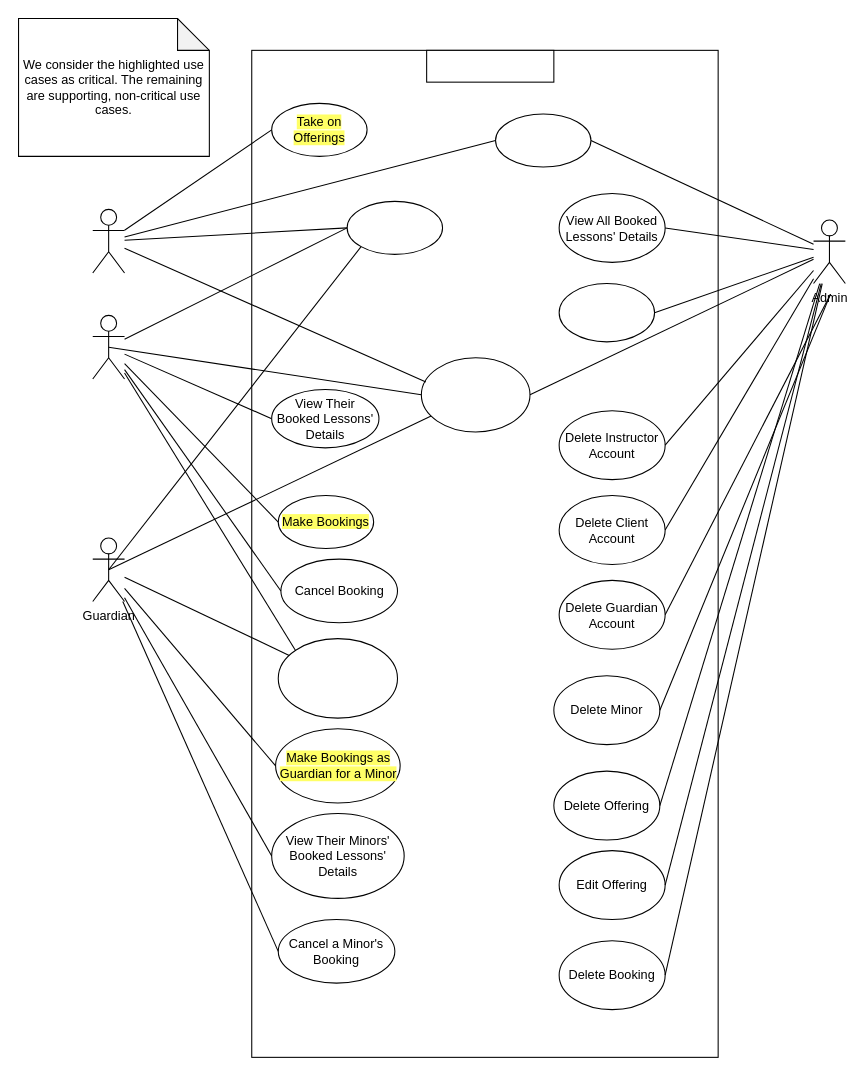
The diagram is 866 pixels wide and 1076 high, and some of its shapes have lost their labels. The shapes that lost their labels are listed below. From the top down, each one's centre as x and y in pixels, then its label:
At point (490, 65): "BookingApp".
At point (542, 140): "View All Available Offerings".
At point (108, 240): "Instructor".
At point (394, 227): "Register to System".
At point (606, 312): "Enter Organization's Offerings".
At point (108, 346): "Client".
At point (475, 394): "Login to System".
At point (337, 678): "View Instructor-Assigned Offerings".
